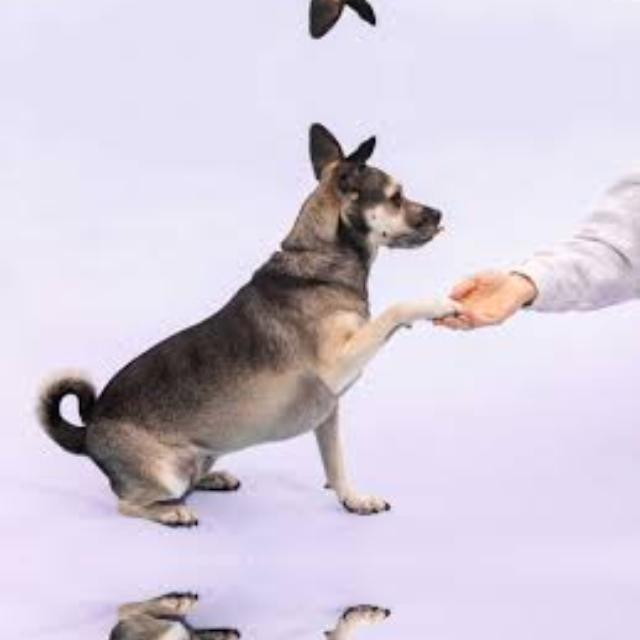dog: (29, 108, 447, 518), (29, 0, 446, 52), (29, 600, 446, 640)
